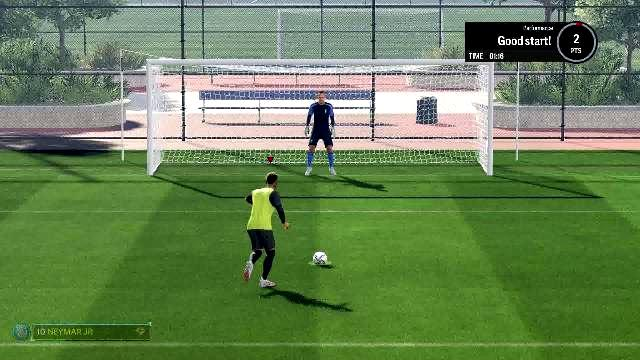bottom-left: (154, 119, 262, 175)
bottom-right: (376, 120, 484, 174)
center-down: (262, 121, 372, 176)
center-up: (262, 63, 374, 121)
football: (312, 251, 330, 265)
goalkeeper: (300, 90, 346, 178)
player: (233, 174, 291, 290)
top-left: (152, 65, 262, 119)
top-right: (377, 67, 483, 121)
